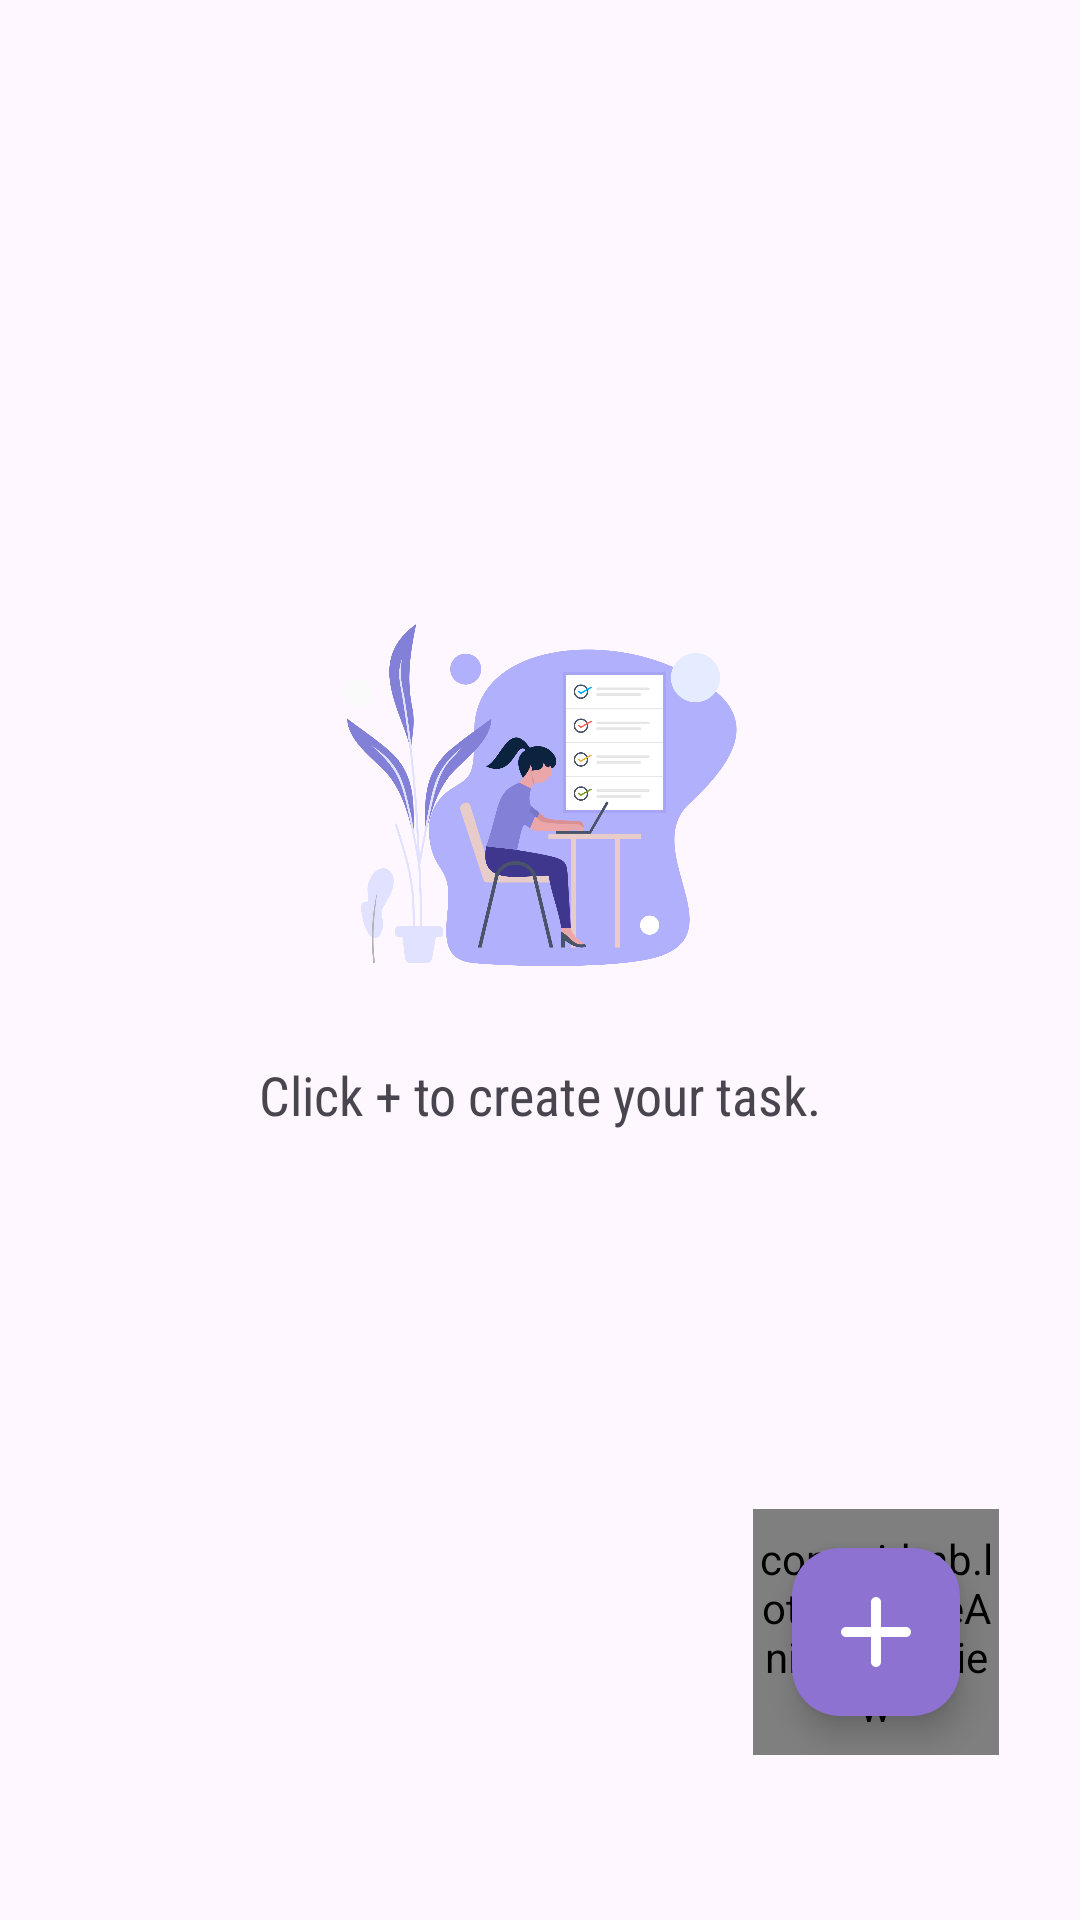

Icon click points for this 1080px×1920px phone screenshot, format point (x, y):
add: point (876, 1632)
